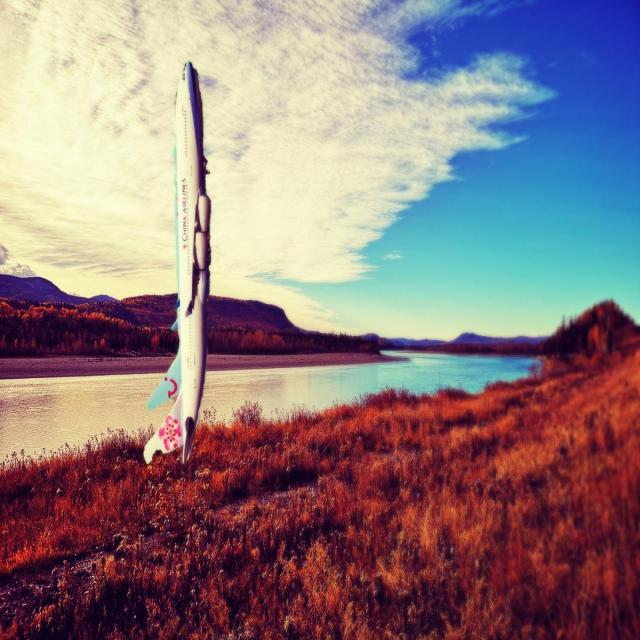airplane: (142, 60, 212, 465)
